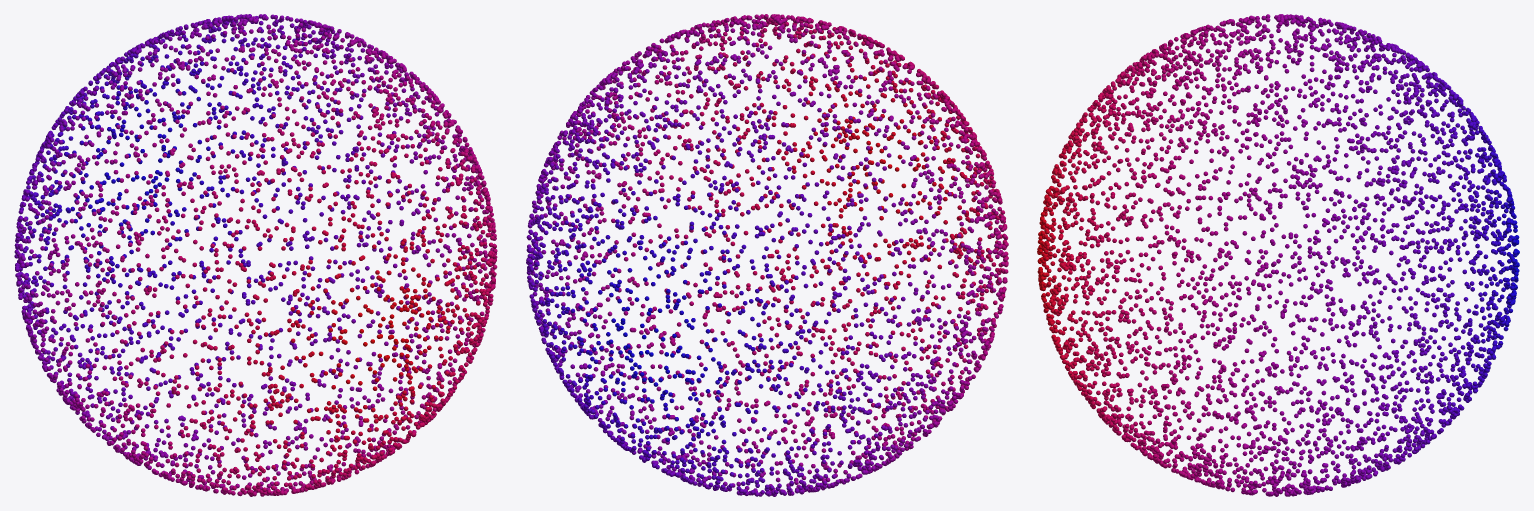
File: fsaverage_rh_heat.glb
3 renders of one model, left to right at view 1: azimuth 30°, elevation 25°; view 2: azimuth 150°, elevation 25°; view 3: azimuth 270°, elevation 25°, orthographic.
Parts seen in each view (by area): view 1: world; view 2: world; view 3: world.
Part boxes in pixels (<box>): world: <box>14,14,497,496</box>; world: <box>526,14,1008,496</box>; world: <box>1037,14,1519,496</box>.
Size of the model in its own units: 202 by 202 by 202.
